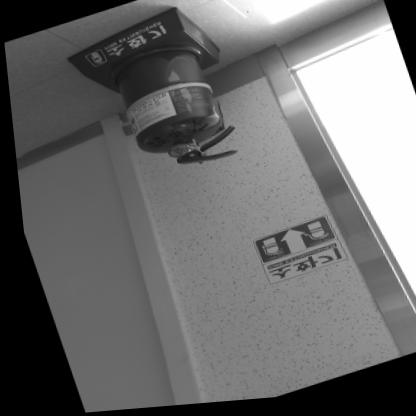FE: (61, 0, 253, 196)
